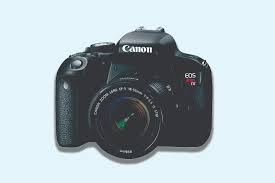camera: (55, 33, 213, 156)
